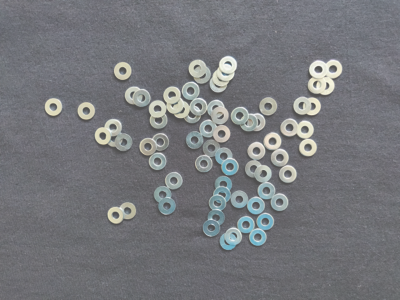circle: (77, 101, 98, 122), (43, 97, 63, 118), (324, 59, 345, 79), (181, 82, 201, 102), (292, 97, 312, 117), (309, 60, 329, 80), (195, 154, 214, 175), (303, 98, 322, 119), (317, 76, 336, 97), (229, 190, 251, 208), (139, 138, 159, 157), (188, 59, 208, 78), (271, 193, 290, 213), (257, 182, 276, 202), (278, 166, 297, 186), (271, 149, 290, 169), (264, 132, 283, 152), (295, 120, 315, 139), (104, 130, 125, 148), (158, 197, 177, 216), (213, 125, 232, 144), (207, 100, 226, 119), (215, 147, 234, 166), (221, 158, 240, 177), (208, 194, 227, 213), (259, 98, 278, 117), (225, 227, 244, 246), (219, 233, 238, 252), (247, 142, 266, 161), (298, 139, 317, 158), (124, 86, 142, 106), (214, 176, 234, 194), (206, 209, 226, 227), (201, 220, 221, 238), (249, 228, 267, 248), (255, 164, 273, 184), (211, 187, 232, 204), (149, 153, 167, 172), (152, 133, 170, 152), (114, 62, 132, 81), (149, 99, 167, 118), (192, 67, 211, 85), (199, 120, 218, 138), (211, 107, 230, 125), (219, 56, 238, 74), (217, 64, 236, 82), (249, 113, 267, 132), (247, 197, 266, 215), (257, 212, 275, 231), (238, 216, 256, 235), (281, 119, 299, 138), (116, 133, 133, 153), (212, 70, 232, 87), (307, 78, 327, 95), (154, 186, 172, 204), (133, 90, 151, 108), (150, 112, 168, 130), (164, 86, 182, 104), (167, 97, 185, 115), (173, 102, 191, 120), (185, 131, 203, 149), (95, 127, 112, 146), (104, 119, 123, 136), (165, 173, 184, 190), (184, 105, 201, 124), (209, 77, 228, 94), (232, 106, 249, 125), (241, 114, 257, 134), (203, 140, 221, 157), (245, 161, 262, 179), (108, 206, 124, 225), (118, 203, 137, 219), (191, 98, 207, 117)
